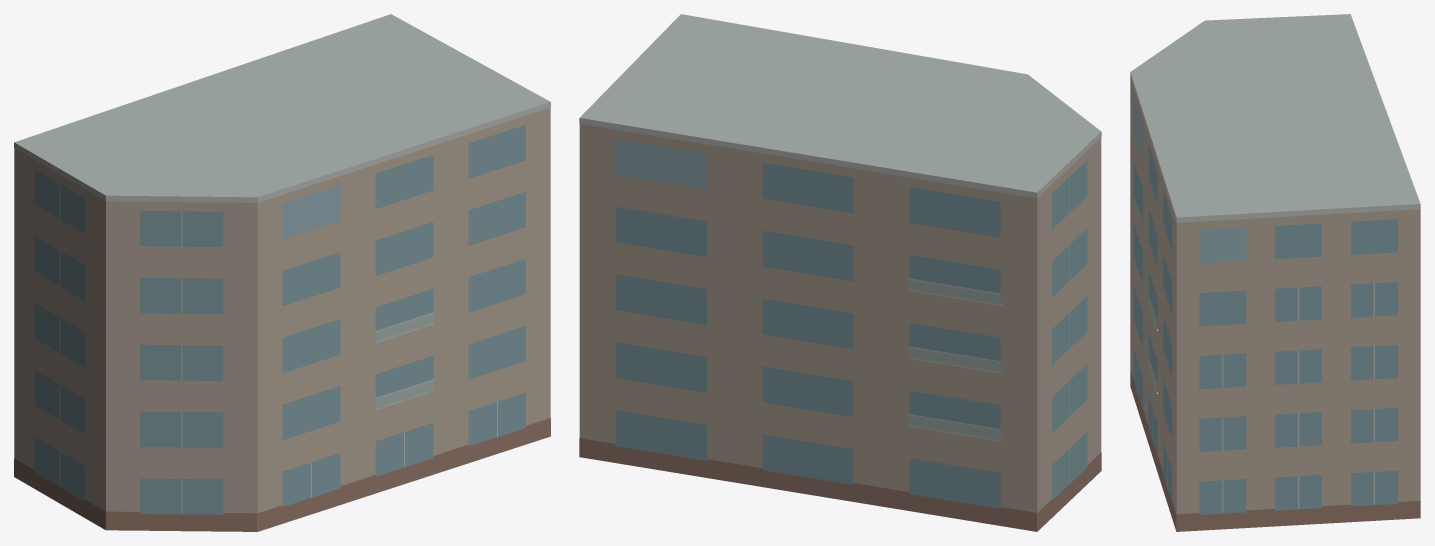
File: survey-upis-32763913.glb
3 renders of one model, left to right at view 1: azimuth 30°, elevation 25°; view 2: azimuth 150°, elevation 25°; view 3: azimuth 270°, elevation 25°, orthographic. The views are drawn at different scales.
Parts seen in each view (by area): view 1: survey-upis-32763913.tmp; view 2: survey-upis-32763913.tmp; view 3: survey-upis-32763913.tmp.
Part boxes in pixels (x1,y1,x2,y2): survey-upis-32763913.tmp: [14, 14, 550, 531]; survey-upis-32763913.tmp: [579, 14, 1101, 531]; survey-upis-32763913.tmp: [1130, 14, 1420, 531].
Size of the model in its own units: 20.02 by 14.41 by 12.07.
